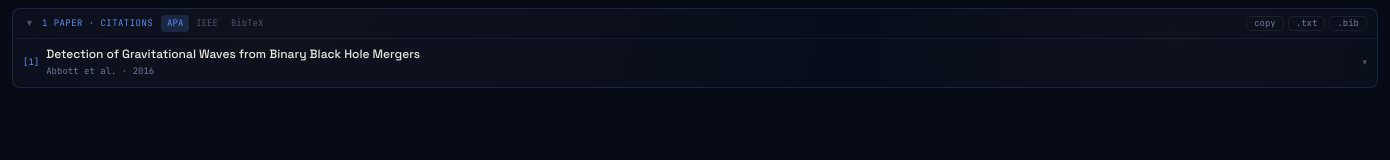
Test: CitationPanel › collapses and hides format tabs on collapse toggle
The image size is (1390, 160).
Expected: the button "APA" is shown, x1=161 y1=15 x2=189 y2=32
Note: Click the collapse toggle (▼)
Click the button titled "Collapse".
click(29, 24)  # box x1=23 y1=19 x2=36 y2=28
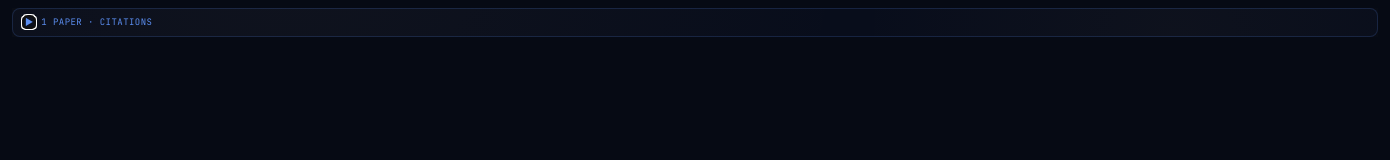
Expected: the button "APA" is gone
